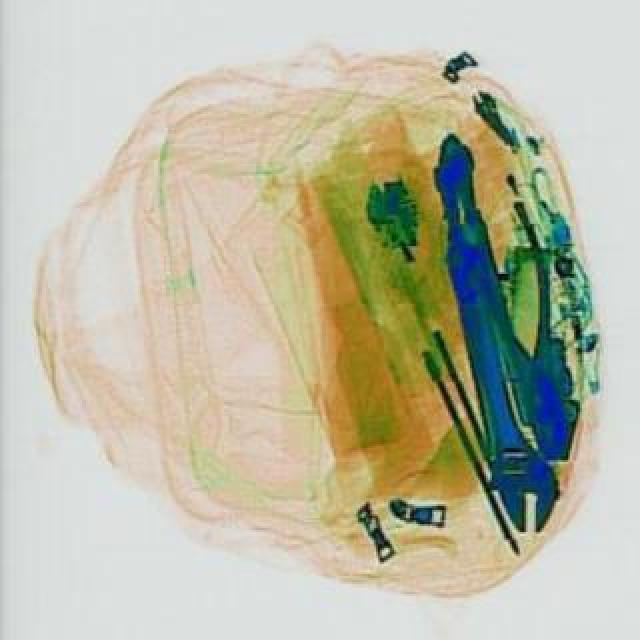scissors: (422, 218, 566, 532)
wrench: (462, 194, 590, 466)
